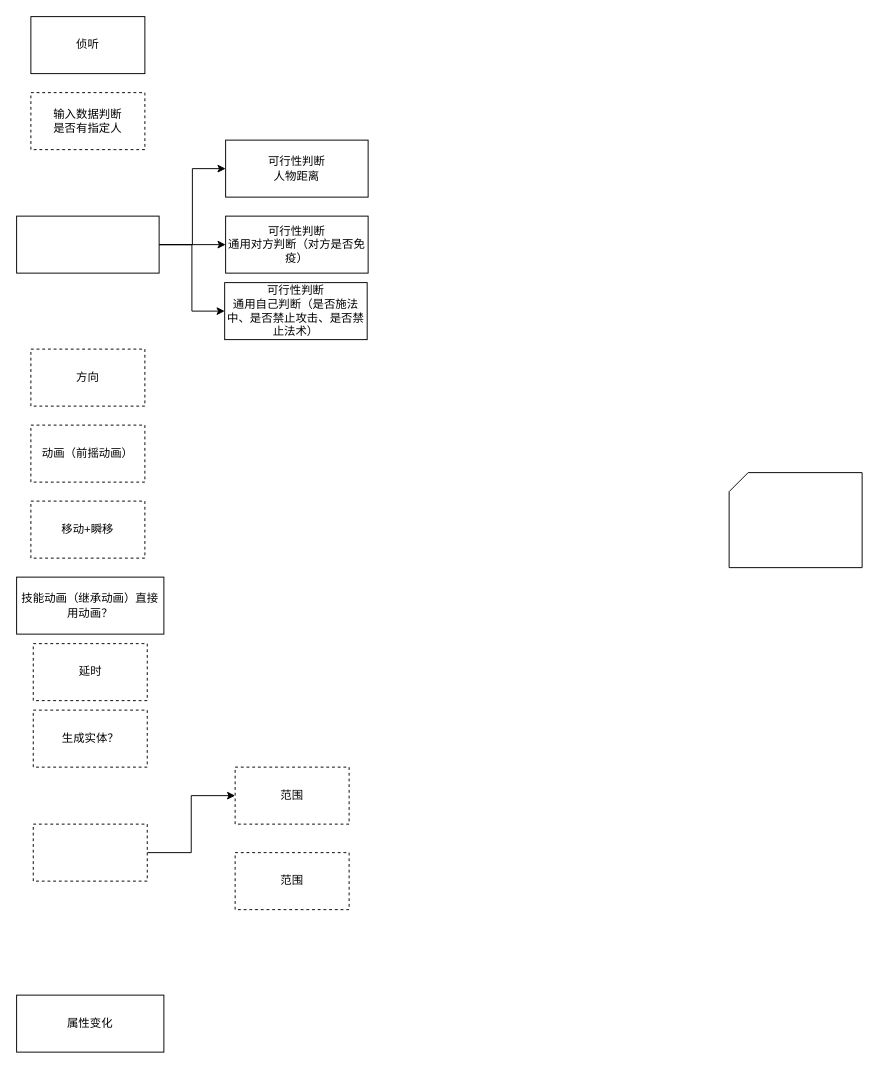
This 879x1069 diagram has some shape labels left out. The centre of each missing label's shape, as x and y in pixels:
"aoe 方向 自己 友军 敌人" belongs at (795,520).
"可行性判断" belongs at (87,244).
"收集目标消息" belongs at (89,852).
